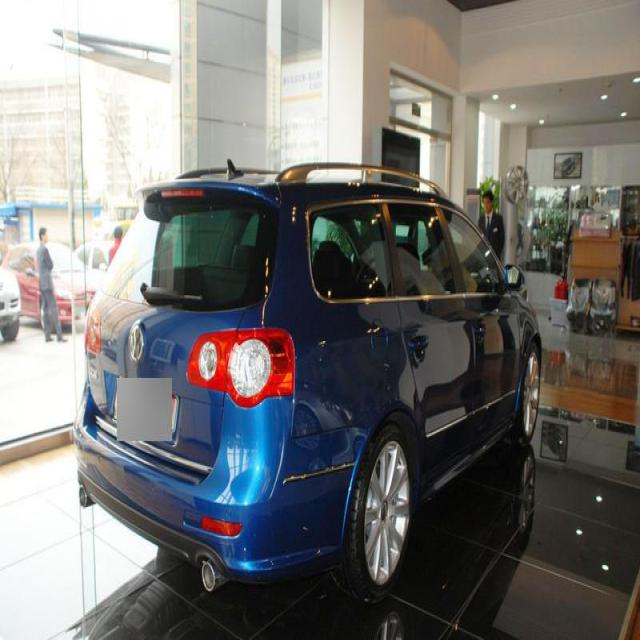back_glass: (96, 174, 281, 312)
back_left_side_light: (83, 300, 110, 361)
back_right_side_light: (184, 327, 299, 412)
door: (378, 194, 482, 482)
front_right_side_door: (436, 188, 518, 442)
front_right_side_mirror: (502, 257, 530, 303)
wheel: (342, 407, 422, 607), (510, 334, 548, 452)
